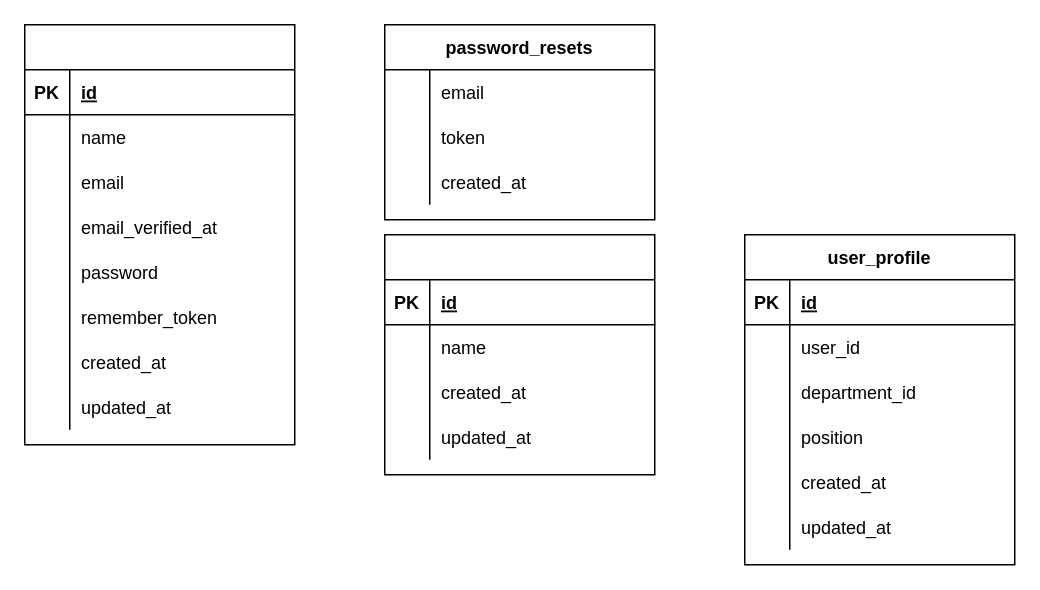
Image size: 1040x590. Some labels were removed from this diagram. Here are the shapes that lost their labels. From the top down, the box of each, then its label:
(23, 23, 295, 445): user
(383, 233, 655, 475): department
